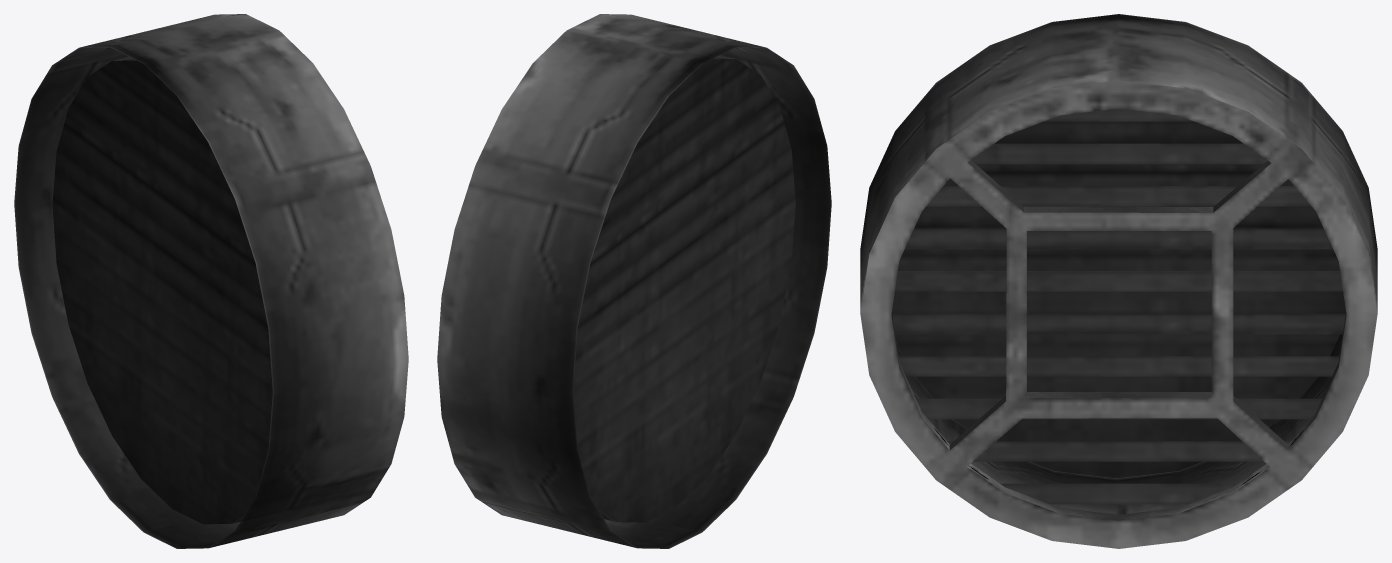
Rendered from generator_fan_unit.dae.
The picture shows the model from 3 angles, left to right: view 1: azimuth 30°, elevation 25°; view 2: azimuth 150°, elevation 25°; view 3: azimuth 270°, elevation 25°; orthographic projection.
Visible parts, largest first — view 1: fan_unit; view 2: fan_unit; view 3: fan_unit.
Part boxes in pixels (x1=…): fan_unit: x1=14, y1=14, x2=408, y2=548; fan_unit: x1=437, y1=14, x2=831, y2=548; fan_unit: x1=860, y1=14, x2=1377, y2=548.
Bounding box in the file's own units: 0.2614 × 0.8613 × 0.8613.
